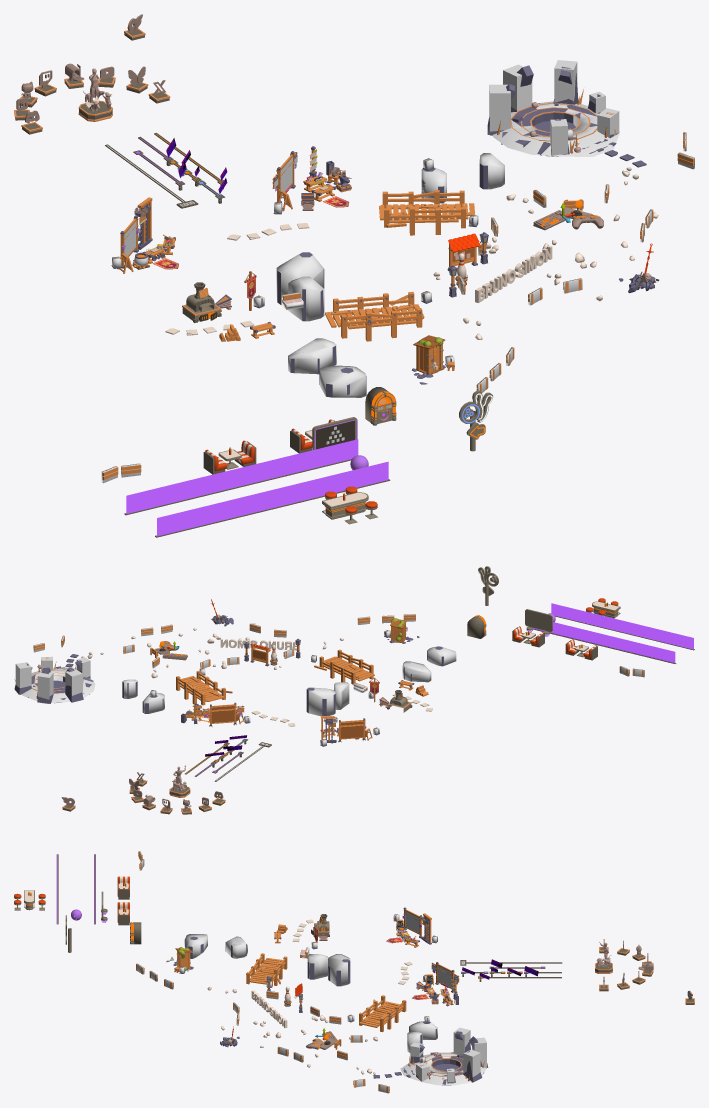
Rendered from areas.glb.
The picture shows the model from 3 angles, top to bottom: view 1: azimuth 30°, elevation 25°; view 2: azimuth 150°, elevation 25°; view 3: azimuth 270°, elevation 25°; orthographic projection. The views are drawn at different scales.
Parts seen in each view (by area): view 1: refBowlingBumpers, bridge.002, bridge.001, trimesh.001, Cube.159, hull.011, Cylinder.021, hull.012, hull.015, hull.016, jukebox, Cube.165 (+6 smaller); view 2: refBowlingBumpers, bridge.002, bridge.001, trimesh.001, hull.015, Cube.159, Cube.177, Cube.172, hull.012, hull.011, Plane.038, Cube.164 (+3 smaller); view 3: bridge.001, bridge.002, trimesh.001, Cube.159, hull.015, Cube.172, Cylinder.021, hull.016, hull.011.
Boxes of the visible parts, x1,y1,x2,y2 form: refBowlingBumpers: [126, 439, 388, 536]; bridge.002: [325, 291, 424, 341]; bridge.001: [379, 190, 474, 235]; trimesh.001: [493, 101, 619, 156]; Cube.159: [14, 77, 170, 134]; hull.011: [319, 365, 366, 397]; Cylinder.021: [511, 104, 616, 153]; hull.012: [288, 338, 336, 374]; hull.015: [276, 253, 323, 305]; hull.016: [288, 276, 324, 321]; jukebox: [365, 387, 396, 425]; Cube.165: [489, 84, 510, 135]; refBowlingBumpers: [533, 603, 693, 662]; bridge.002: [314, 649, 374, 684]; bridge.001: [176, 670, 232, 705]; trimesh.001: [21, 667, 95, 703]; hull.015: [308, 687, 335, 716]; Cube.159: [129, 779, 225, 814]; Cube.177: [525, 609, 552, 634]; Cube.172: [14, 660, 90, 703]; hull.012: [402, 661, 431, 682]; hull.011: [427, 646, 456, 666]; Plane.038: [533, 616, 694, 663]; Cube.164: [37, 671, 53, 703]; bridge.001: [359, 995, 406, 1031]; bridge.002: [246, 953, 287, 986]; trimesh.001: [400, 1052, 485, 1085]; Cube.159: [599, 947, 653, 991]; hull.015: [328, 954, 350, 986]; Cube.172: [410, 1031, 488, 1083]; Cylinder.021: [403, 1054, 463, 1077]; hull.016: [307, 954, 328, 979]; hull.011: [184, 934, 207, 958].
Size of the model in its own units: 98.86 by 9.69 by 119.
Materials: 39 (11 with a texture image).
